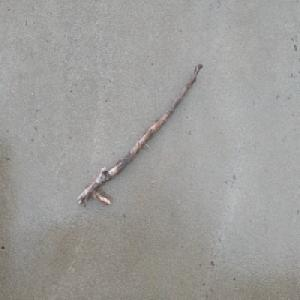Wood: (76, 61, 203, 207)
